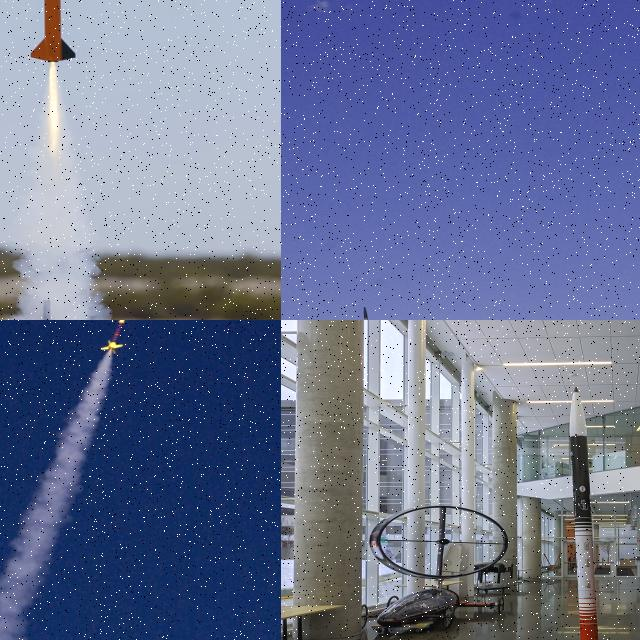Rocket: (570, 387, 599, 640), (29, 0, 79, 64), (99, 320, 126, 354), (363, 304, 377, 320)
